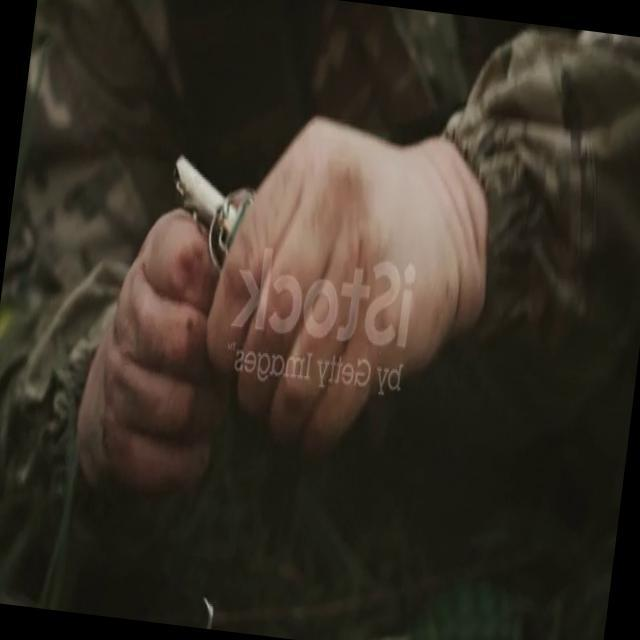grenade: (150, 150, 256, 272)
